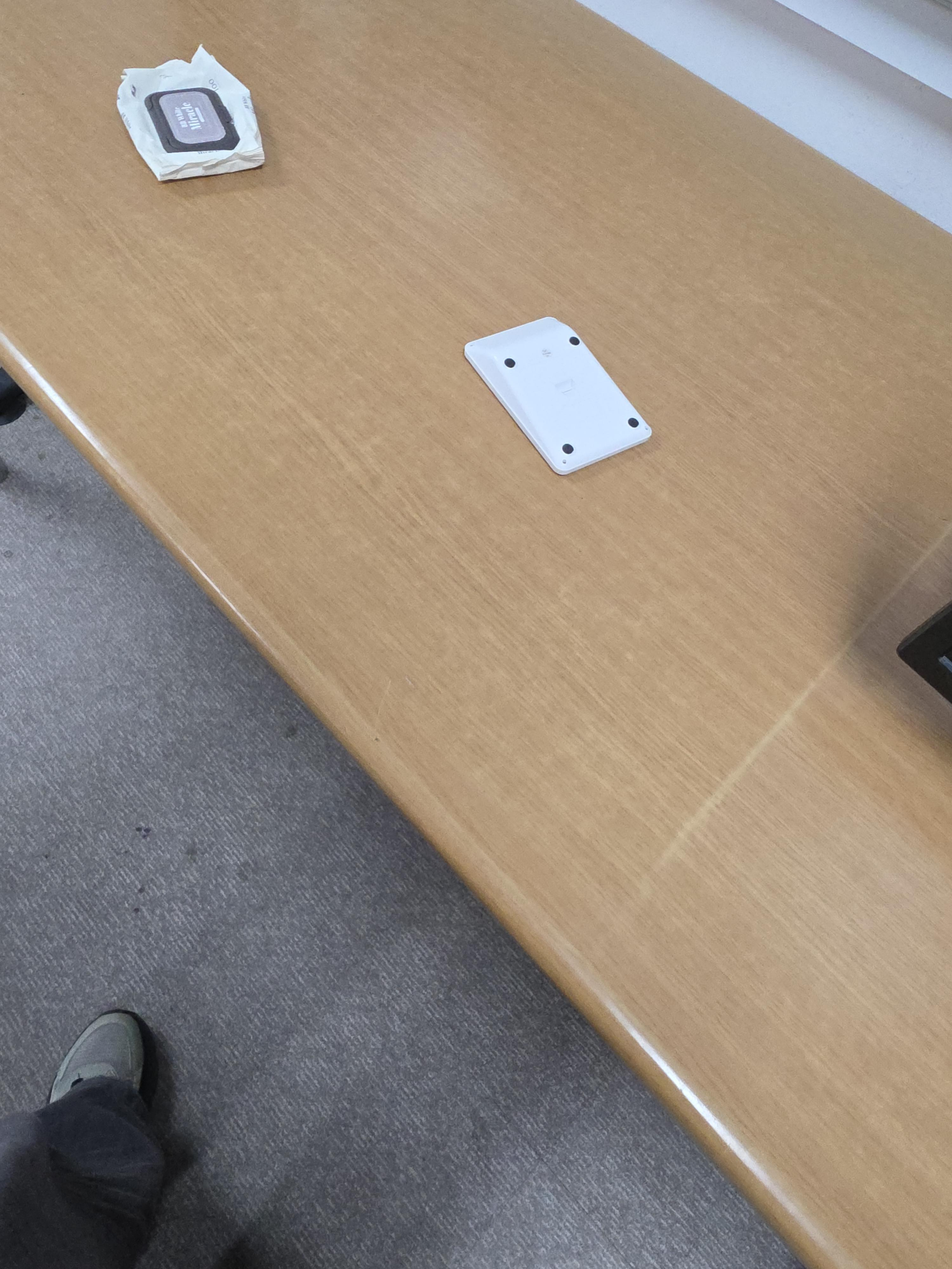calculator: (464, 317, 653, 476)
tissue: (116, 44, 266, 181)
